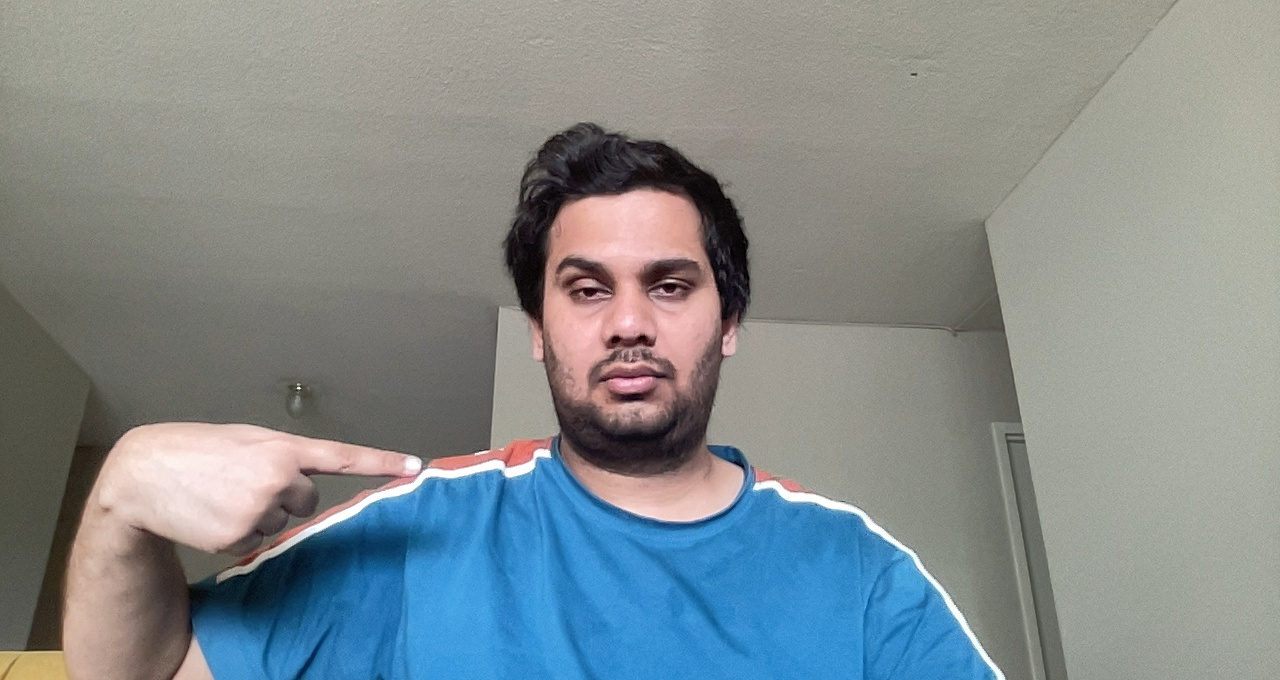fingerleft: (98, 410, 427, 589)
